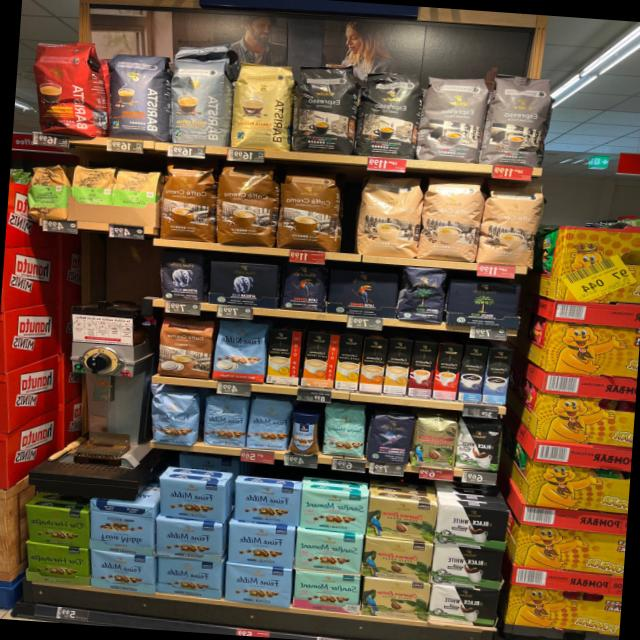Barista CB: (228, 59, 296, 152)
Barista CC: (166, 54, 234, 148)
Barista Espresso: (106, 51, 169, 141)
Barista Kolumbien: (29, 38, 97, 137)
CC Mild: (476, 180, 544, 269), (354, 173, 424, 257), (417, 176, 484, 262)
CC Vollmundig 36 Pads: (213, 161, 279, 248), (275, 170, 342, 250), (158, 162, 216, 242)
Espresso Aromatisch: (480, 73, 554, 168), (416, 74, 487, 163)
Espresso Kraftig: (289, 62, 361, 156), (355, 70, 423, 158)
